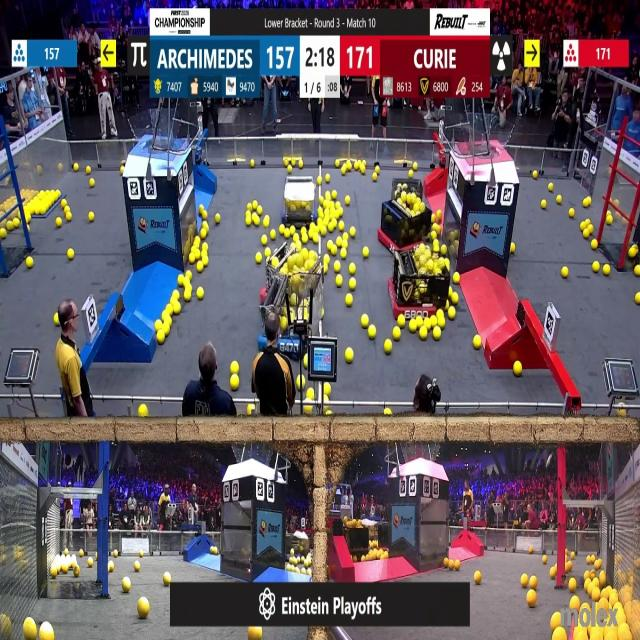ball_ground: (26, 620, 38, 640), (40, 624, 53, 640), (139, 598, 149, 618), (552, 614, 562, 630), (250, 627, 262, 640), (527, 591, 536, 607), (231, 376, 240, 391), (515, 360, 523, 376), (554, 630, 566, 640), (346, 348, 354, 362), (122, 579, 130, 593), (568, 580, 576, 594), (231, 361, 240, 373), (367, 325, 375, 338), (384, 341, 392, 354), (140, 406, 148, 419), (472, 338, 480, 350), (451, 292, 459, 304), (392, 327, 400, 339), (420, 327, 428, 339), (570, 597, 578, 609), (529, 575, 537, 587), (410, 320, 418, 332), (630, 246, 638, 258), (424, 316, 432, 328), (592, 589, 600, 601), (165, 572, 172, 585), (473, 570, 480, 583), (599, 572, 606, 585), (430, 316, 438, 327), (27, 256, 34, 268), (433, 327, 440, 339), (449, 308, 456, 320), (174, 304, 181, 316), (361, 315, 368, 327), (522, 574, 529, 586), (323, 383, 330, 395), (158, 333, 165, 345), (198, 288, 205, 300), (178, 275, 185, 287), (439, 316, 446, 328), (453, 273, 460, 285), (251, 214, 258, 226), (565, 561, 572, 573), (307, 388, 315, 398), (183, 290, 191, 300), (244, 216, 252, 226), (6, 220, 14, 230), (68, 249, 75, 260), (603, 266, 610, 277), (397, 316, 404, 327), (349, 279, 356, 290), (335, 263, 342, 274), (349, 265, 356, 276), (442, 245, 449, 256), (325, 209, 332, 220), (347, 293, 353, 305), (634, 266, 640, 278), (584, 198, 592, 207), (304, 408, 312, 417), (155, 320, 162, 330), (163, 325, 170, 335), (319, 225, 326, 235), (12, 218, 19, 228), (594, 263, 600, 274), (362, 247, 368, 258), (264, 216, 270, 227), (0, 229, 6, 240), (551, 567, 557, 578), (263, 236, 269, 247), (605, 213, 611, 224), (55, 314, 61, 325), (174, 289, 180, 300), (384, 410, 392, 418), (323, 254, 330, 263), (342, 240, 349, 249), (163, 312, 170, 321), (592, 240, 598, 250), (562, 268, 568, 278), (271, 231, 277, 241), (340, 220, 346, 230), (331, 246, 337, 256), (134, 562, 140, 572), (584, 230, 590, 240), (454, 560, 460, 570), (341, 248, 347, 258), (195, 263, 201, 273), (350, 228, 356, 238), (108, 562, 114, 572), (339, 208, 345, 218), (314, 235, 320, 245), (328, 221, 334, 231), (289, 225, 295, 235), (272, 256, 278, 266), (168, 304, 173, 316), (595, 559, 601, 569), (417, 317, 423, 327), (318, 208, 324, 218), (435, 210, 441, 220), (188, 254, 195, 262), (324, 175, 331, 183), (292, 234, 299, 242), (328, 201, 335, 209), (338, 276, 343, 287), (635, 292, 640, 303), (296, 378, 301, 389), (512, 243, 517, 254), (203, 256, 209, 265), (57, 218, 63, 227), (201, 231, 207, 240), (202, 242, 208, 251), (532, 171, 538, 180), (248, 202, 254, 211), (303, 236, 309, 245), (193, 237, 199, 246), (322, 199, 328, 208), (432, 241, 438, 250), (256, 253, 261, 263), (569, 208, 574, 218), (445, 558, 450, 568), (215, 214, 220, 224), (304, 356, 309, 366), (75, 566, 80, 576), (247, 408, 252, 418), (323, 394, 330, 401), (323, 267, 329, 275), (266, 248, 272, 256), (284, 232, 290, 240), (202, 212, 208, 220), (326, 242, 332, 250), (540, 201, 546, 209), (212, 546, 218, 554), (256, 207, 262, 215), (579, 222, 585, 230), (541, 556, 547, 564), (316, 177, 322, 185), (620, 411, 626, 419), (284, 160, 290, 168), (413, 164, 419, 172), (588, 224, 594, 232), (90, 212, 95, 221), (338, 238, 343, 247), (557, 194, 562, 203), (27, 214, 32, 223), (342, 166, 347, 175), (336, 202, 342, 209), (73, 165, 79, 172), (202, 221, 208, 228), (67, 213, 72, 221), (331, 190, 336, 198), (547, 183, 552, 191), (90, 559, 95, 567), (91, 179, 96, 187), (186, 272, 191, 280), (371, 174, 376, 182), (250, 161, 255, 169), (280, 224, 284, 234), (297, 162, 302, 170), (344, 234, 349, 242), (570, 552, 575, 560), (63, 200, 68, 208), (431, 232, 436, 240), (336, 161, 341, 169), (85, 166, 90, 173), (287, 167, 292, 174), (360, 168, 365, 175), (79, 551, 84, 558), (56, 189, 61, 196), (319, 194, 324, 201), (381, 554, 386, 561), (346, 198, 350, 206), (376, 167, 380, 175), (449, 286, 453, 294), (320, 310, 324, 318), (308, 568, 312, 576), (529, 546, 534, 552), (122, 166, 127, 172), (200, 205, 205, 211), (410, 171, 414, 178), (119, 168, 123, 175), (140, 552, 144, 558), (113, 552, 117, 558), (361, 557, 365, 563)
goal: (460, 118, 518, 158), (128, 115, 187, 152)
robot_blue: (258, 276, 314, 361), (284, 172, 318, 229), (284, 533, 310, 564)
robot_red: (391, 247, 450, 318), (381, 179, 432, 253), (344, 516, 371, 558)
